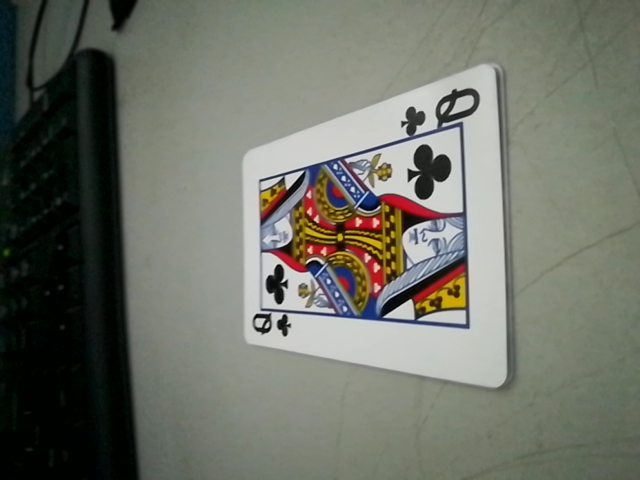mh q: (400, 85, 486, 138), (249, 303, 299, 343)
